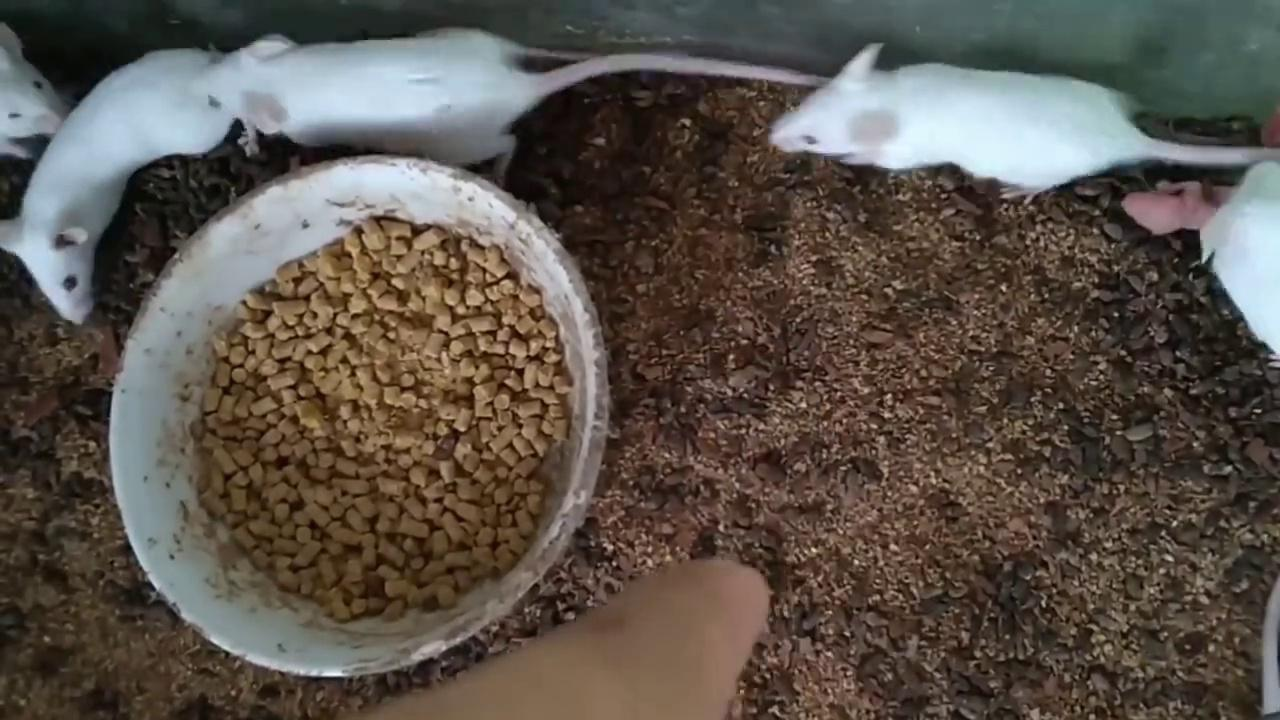rat: (199, 29, 833, 187), (763, 42, 1280, 206), (0, 48, 234, 328)
